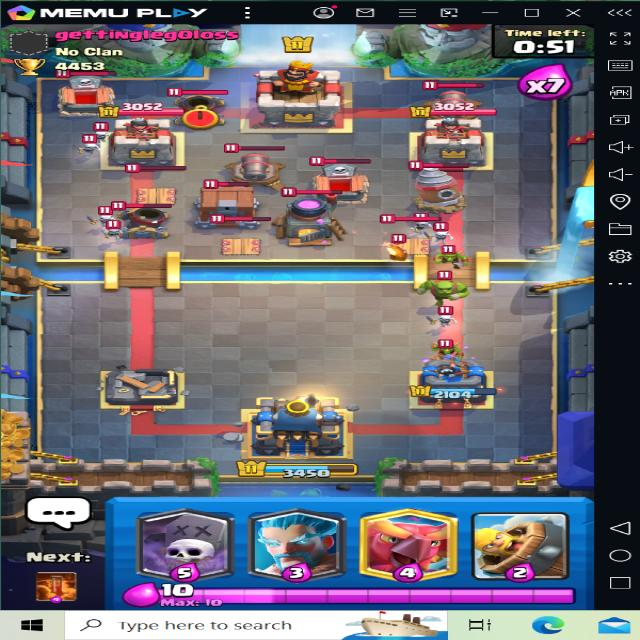brawler: (414, 264, 474, 301)
cannon: (216, 139, 298, 194), (417, 78, 485, 128)
fire-spirit: (386, 236, 415, 261)
furnace: (269, 186, 356, 244)
goblin: (432, 247, 468, 269), (430, 336, 462, 359)
goblin-cage: (181, 178, 268, 231)
goblin-drill: (406, 159, 466, 212)
mortar: (106, 195, 174, 243), (166, 84, 230, 126)
skeleton: (84, 118, 116, 140), (411, 216, 436, 240), (435, 305, 462, 327), (430, 220, 456, 242), (105, 223, 131, 243), (91, 207, 119, 222), (78, 144, 102, 155)
tesla-closed: (123, 156, 187, 208), (209, 212, 277, 256), (380, 213, 444, 257)
tombstone: (56, 70, 128, 117), (308, 153, 376, 200)
